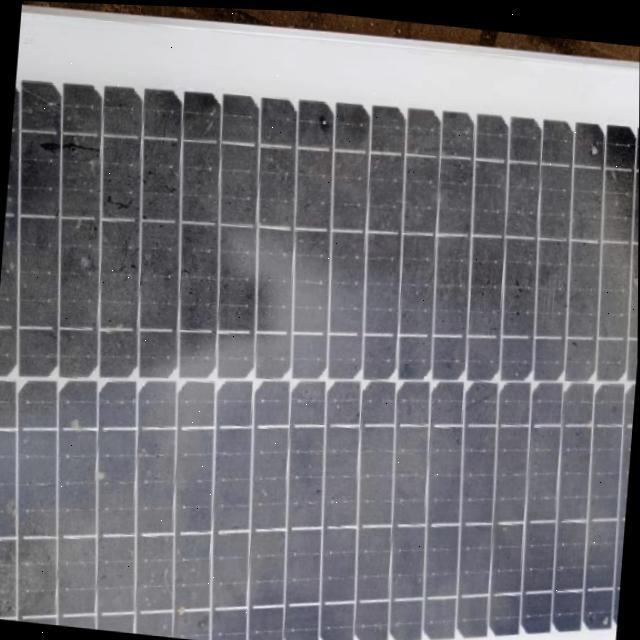Surface Contaminant: (0, 30, 640, 637)
